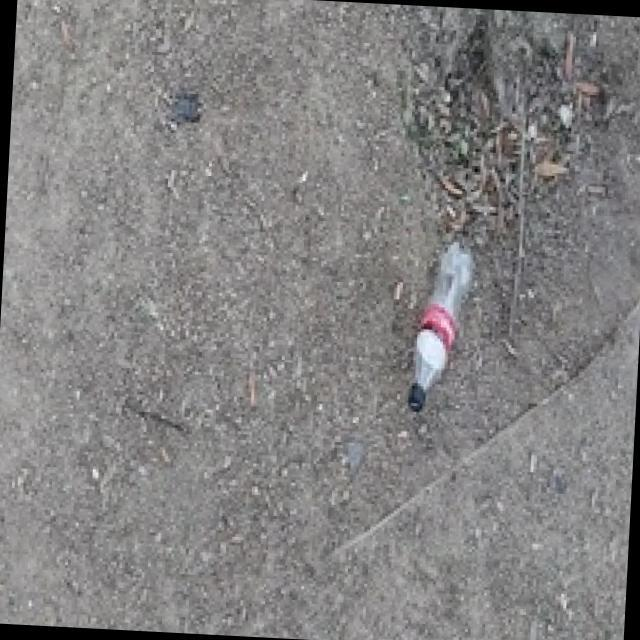good: (397, 236, 476, 413)
